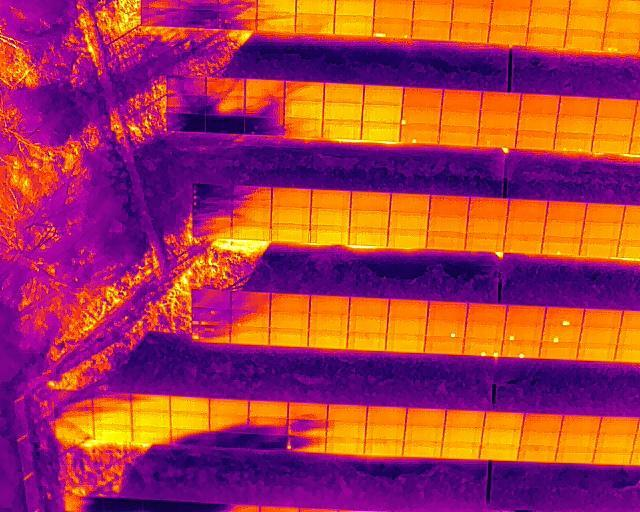Cell: (478, 129, 518, 147), (544, 308, 584, 326), (426, 320, 466, 338), (400, 125, 439, 143), (542, 238, 580, 256), (400, 108, 440, 125), (231, 309, 271, 326), (541, 326, 581, 343), (504, 325, 544, 340)
Cell-Multi: (602, 32, 640, 54), (553, 133, 593, 152), (373, 18, 411, 38), (463, 339, 503, 356), (501, 340, 541, 357), (193, 326, 231, 343), (193, 310, 231, 325)
No-Anomaly: (489, 24, 529, 46), (530, 6, 568, 29), (334, 15, 373, 37), (451, 23, 491, 44), (452, 2, 490, 24), (439, 124, 478, 145), (568, 10, 607, 31), (490, 5, 530, 25), (271, 187, 311, 207), (324, 84, 364, 104), (403, 87, 443, 107), (413, 0, 451, 21), (505, 306, 547, 325), (311, 189, 350, 209), (390, 193, 429, 213), (412, 21, 451, 41), (528, 28, 567, 48), (364, 85, 403, 105), (563, 31, 604, 50), (581, 310, 624, 328), (481, 92, 521, 111), (351, 191, 391, 210), (520, 95, 559, 114), (598, 99, 637, 118), (480, 111, 519, 130), (324, 120, 363, 139), (429, 195, 468, 214), (508, 200, 547, 219), (349, 227, 388, 246), (270, 329, 309, 348), (464, 321, 505, 339), (586, 203, 624, 222), (427, 232, 465, 251), (296, 16, 334, 35), (323, 103, 363, 121), (592, 135, 632, 153), (271, 207, 311, 225), (389, 212, 429, 230), (271, 225, 311, 243), (348, 317, 388, 335), (579, 327, 619, 345), (386, 334, 426, 352), (577, 344, 617, 362), (93, 409, 133, 427), (606, 11, 640, 32), (558, 97, 597, 115), (285, 119, 324, 137), (429, 214, 468, 232), (467, 216, 506, 234), (311, 225, 350, 243), (504, 236, 543, 254), (579, 239, 618, 257), (310, 314, 349, 332), (367, 406, 406, 424), (445, 410, 484, 428), (522, 413, 561, 431), (132, 428, 171, 446), (365, 439, 404, 457), (518, 114, 559, 131), (555, 116, 596, 133), (388, 301, 429, 318), (466, 305, 507, 322), (598, 416, 639, 433), (561, 415, 599, 433), (375, 0, 413, 18), (443, 90, 481, 108), (440, 108, 480, 125), (594, 118, 634, 135), (506, 218, 546, 235), (388, 230, 428, 247), (270, 295, 310, 312), (310, 297, 350, 314), (427, 304, 467, 321), (425, 338, 465, 355), (405, 408, 445, 425), (596, 433, 636, 450), (545, 219, 582, 237), (285, 101, 324, 118), (361, 123, 400, 140), (516, 131, 555, 148), (468, 199, 507, 216), (547, 202, 586, 219), (582, 222, 621, 239), (232, 224, 271, 241), (465, 235, 504, 252), (270, 312, 309, 329), (231, 328, 270, 345), (347, 334, 386, 351), (171, 396, 210, 413), (288, 402, 327, 419), (328, 404, 367, 421), (170, 413, 209, 430), (327, 422, 366, 439), (482, 429, 521, 446), (442, 442, 481, 459), (387, 318, 428, 334), (363, 105, 401, 122), (309, 331, 347, 348), (133, 411, 171, 428), (485, 412, 523, 429), (311, 209, 351, 225), (210, 399, 250, 415), (404, 426, 444, 442), (296, 0, 336, 16), (350, 211, 389, 227), (349, 300, 388, 316), (540, 343, 579, 359), (249, 401, 288, 417), (93, 427, 132, 443), (403, 442, 442, 458), (481, 445, 519, 461), (558, 448, 596, 464), (518, 446, 558, 461), (337, 0, 374, 16), (366, 424, 405, 439), (326, 439, 365, 454), (521, 431, 559, 446), (559, 433, 596, 448), (444, 428, 483, 442), (594, 450, 633, 464), (257, 0, 296, 13)
Shadowing: (193, 184, 232, 204), (166, 96, 206, 115), (245, 117, 285, 136), (233, 186, 271, 206), (206, 79, 246, 98), (246, 98, 285, 117), (141, 9, 180, 28), (257, 13, 296, 32), (231, 292, 272, 310), (219, 12, 257, 31), (193, 291, 231, 310), (206, 98, 246, 116), (179, 10, 219, 28), (54, 409, 94, 427), (285, 83, 325, 101), (206, 116, 245, 134), (232, 206, 271, 224), (246, 81, 285, 99), (166, 115, 206, 132), (193, 204, 233, 221), (167, 79, 207, 96), (288, 436, 326, 453), (288, 420, 328, 436), (209, 430, 249, 446), (193, 222, 232, 238), (249, 432, 288, 448), (93, 392, 131, 408), (132, 395, 170, 411), (210, 415, 249, 430), (249, 417, 288, 432), (170, 431, 209, 446), (54, 427, 95, 441)
